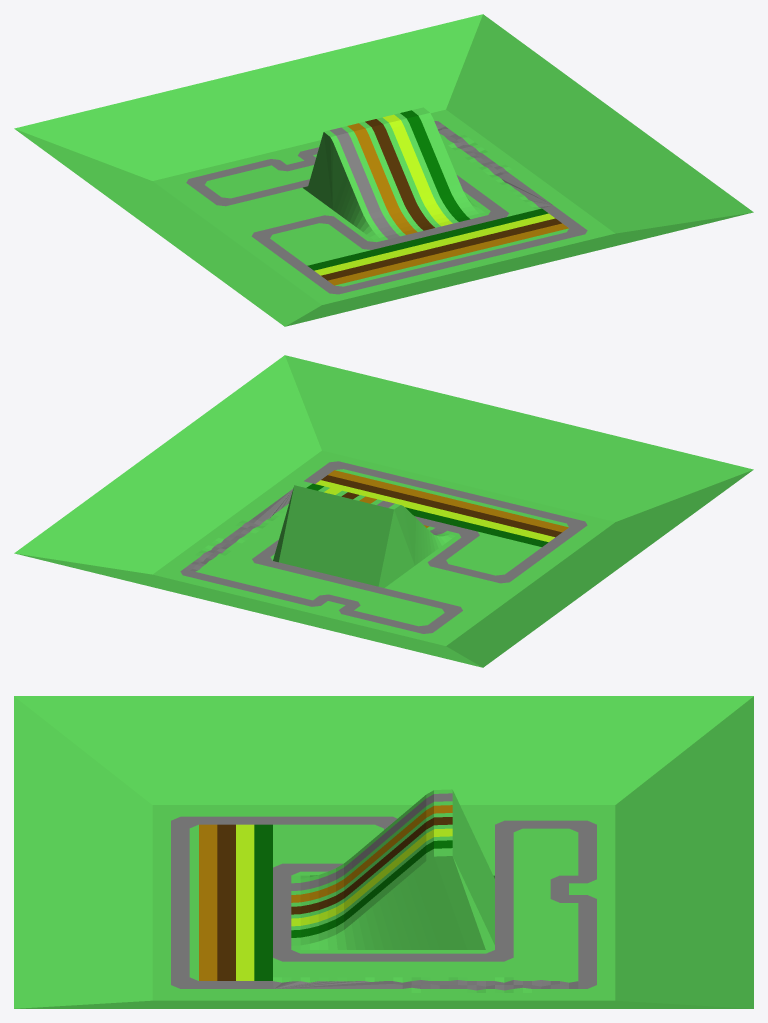
The model's file is RacetrackGridTest.fbx.
The picture shows the model from 3 angles, top to bottom: view 1: azimuth 30°, elevation 25°; view 2: azimuth 150°, elevation 25°; view 3: azimuth 270°, elevation 25°; orthographic projection. The views are drawn at different scales.
Parts seen in each view (by area): view 1: Plane; view 2: Plane; view 3: Plane.
Part boxes in pixels (x1,y1,x2,y2): Plane: (14, 14, 753, 326); Plane: (14, 355, 753, 667); Plane: (14, 696, 753, 1008).
Bounding box in the file's own units: 15986 × 15986 × 2182.
